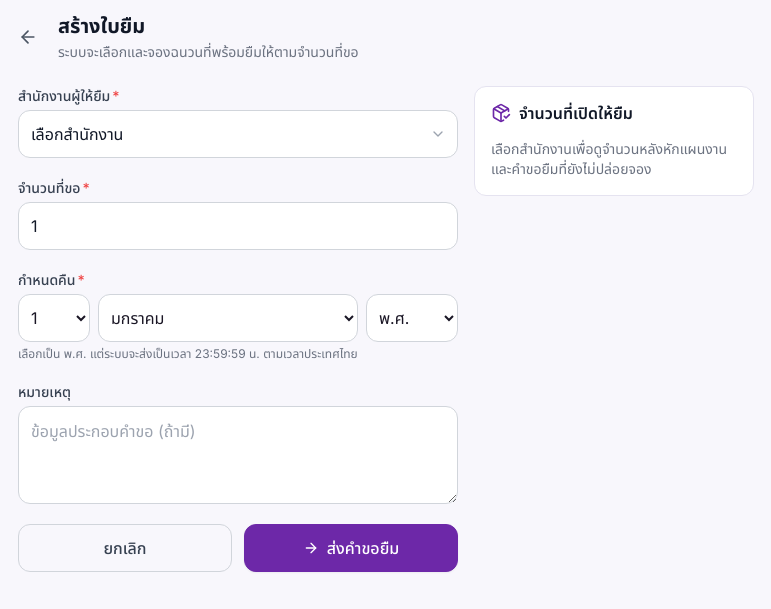
NewBorrowPage canonical request › blocks a return deadline that is not in the future
The image size is (771, 609).
Select "สำนักงานกำลังสูง — ยืมได้ 20 ชิ้น" in the dropdown labelled "สำนักงานผู้ให้ยืม*" at (238, 134), box [18,110,458,158]
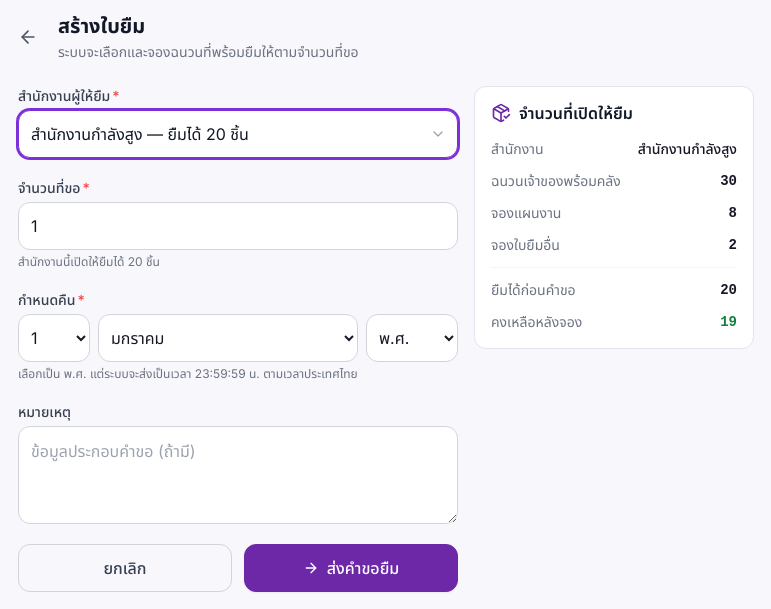
Click the button "ส่งคำขอยืม".
click(351, 568)  # box [244,544,458,592]
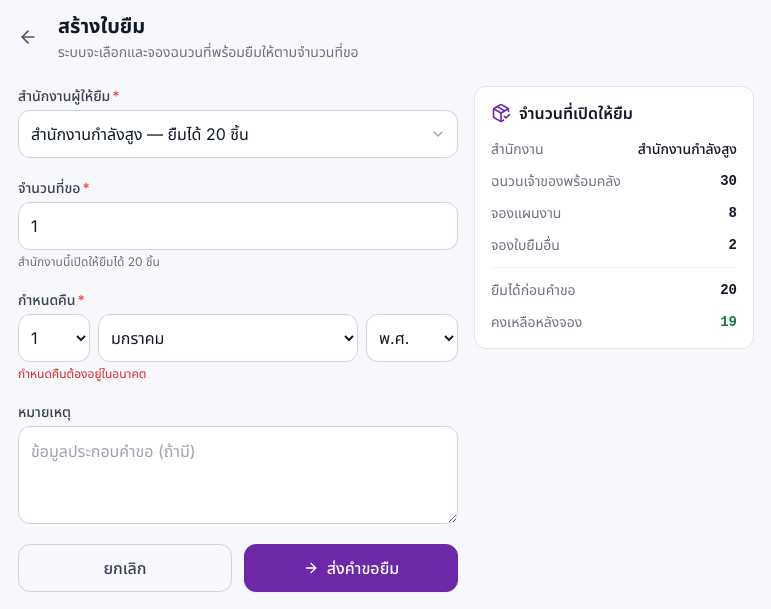
Check: the text "กำหนดคืนต้องอยู่ในอนาคต" is shown, box [18,366,146,381]
